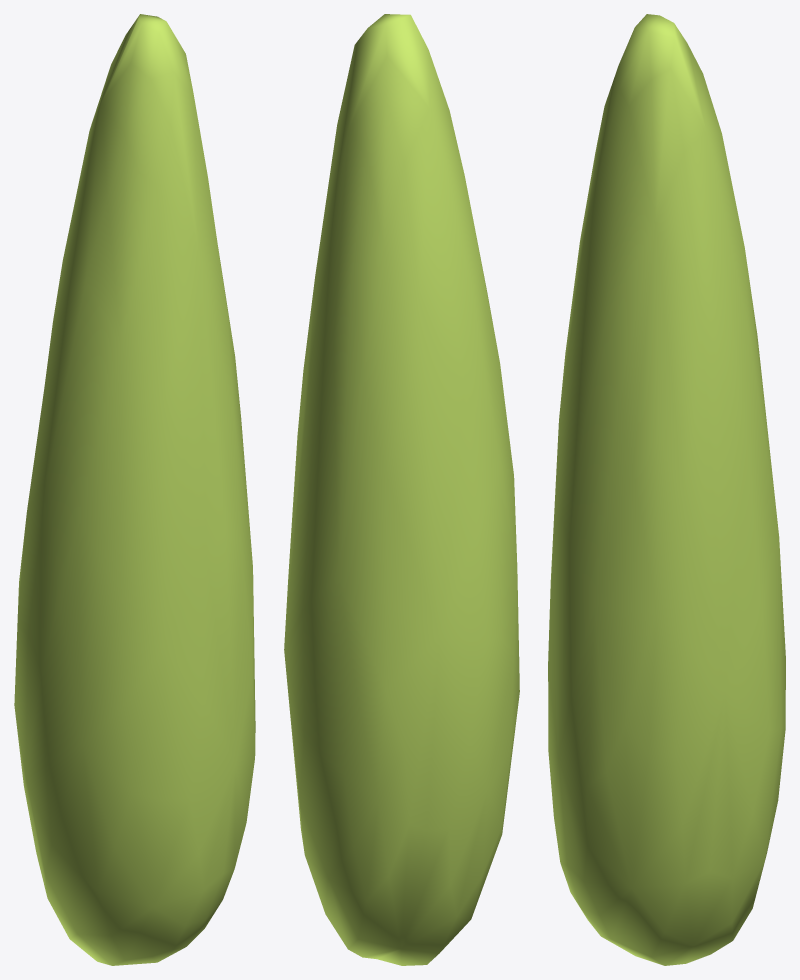
The model's file is BushTree_G.fbx.
3 views of the same model, side by side, from view 1: azimuth 30°, elevation 25°; view 2: azimuth 150°, elevation 25°; view 3: azimuth 270°, elevation 25° (orthographic).
Visible parts, largest first — view 1: Thuja_BushTree_m_04; view 2: Thuja_BushTree_m_04; view 3: Thuja_BushTree_m_04.
Boxes of the visible parts, x1=… form: Thuja_BushTree_m_04: x1=14, y1=14, x2=255, y2=965; Thuja_BushTree_m_04: x1=284, y1=14, x2=519, y2=965; Thuja_BushTree_m_04: x1=548, y1=14, x2=785, y2=965.
Bounding box in the file's own units: 95.63 × 416 × 94.82.
